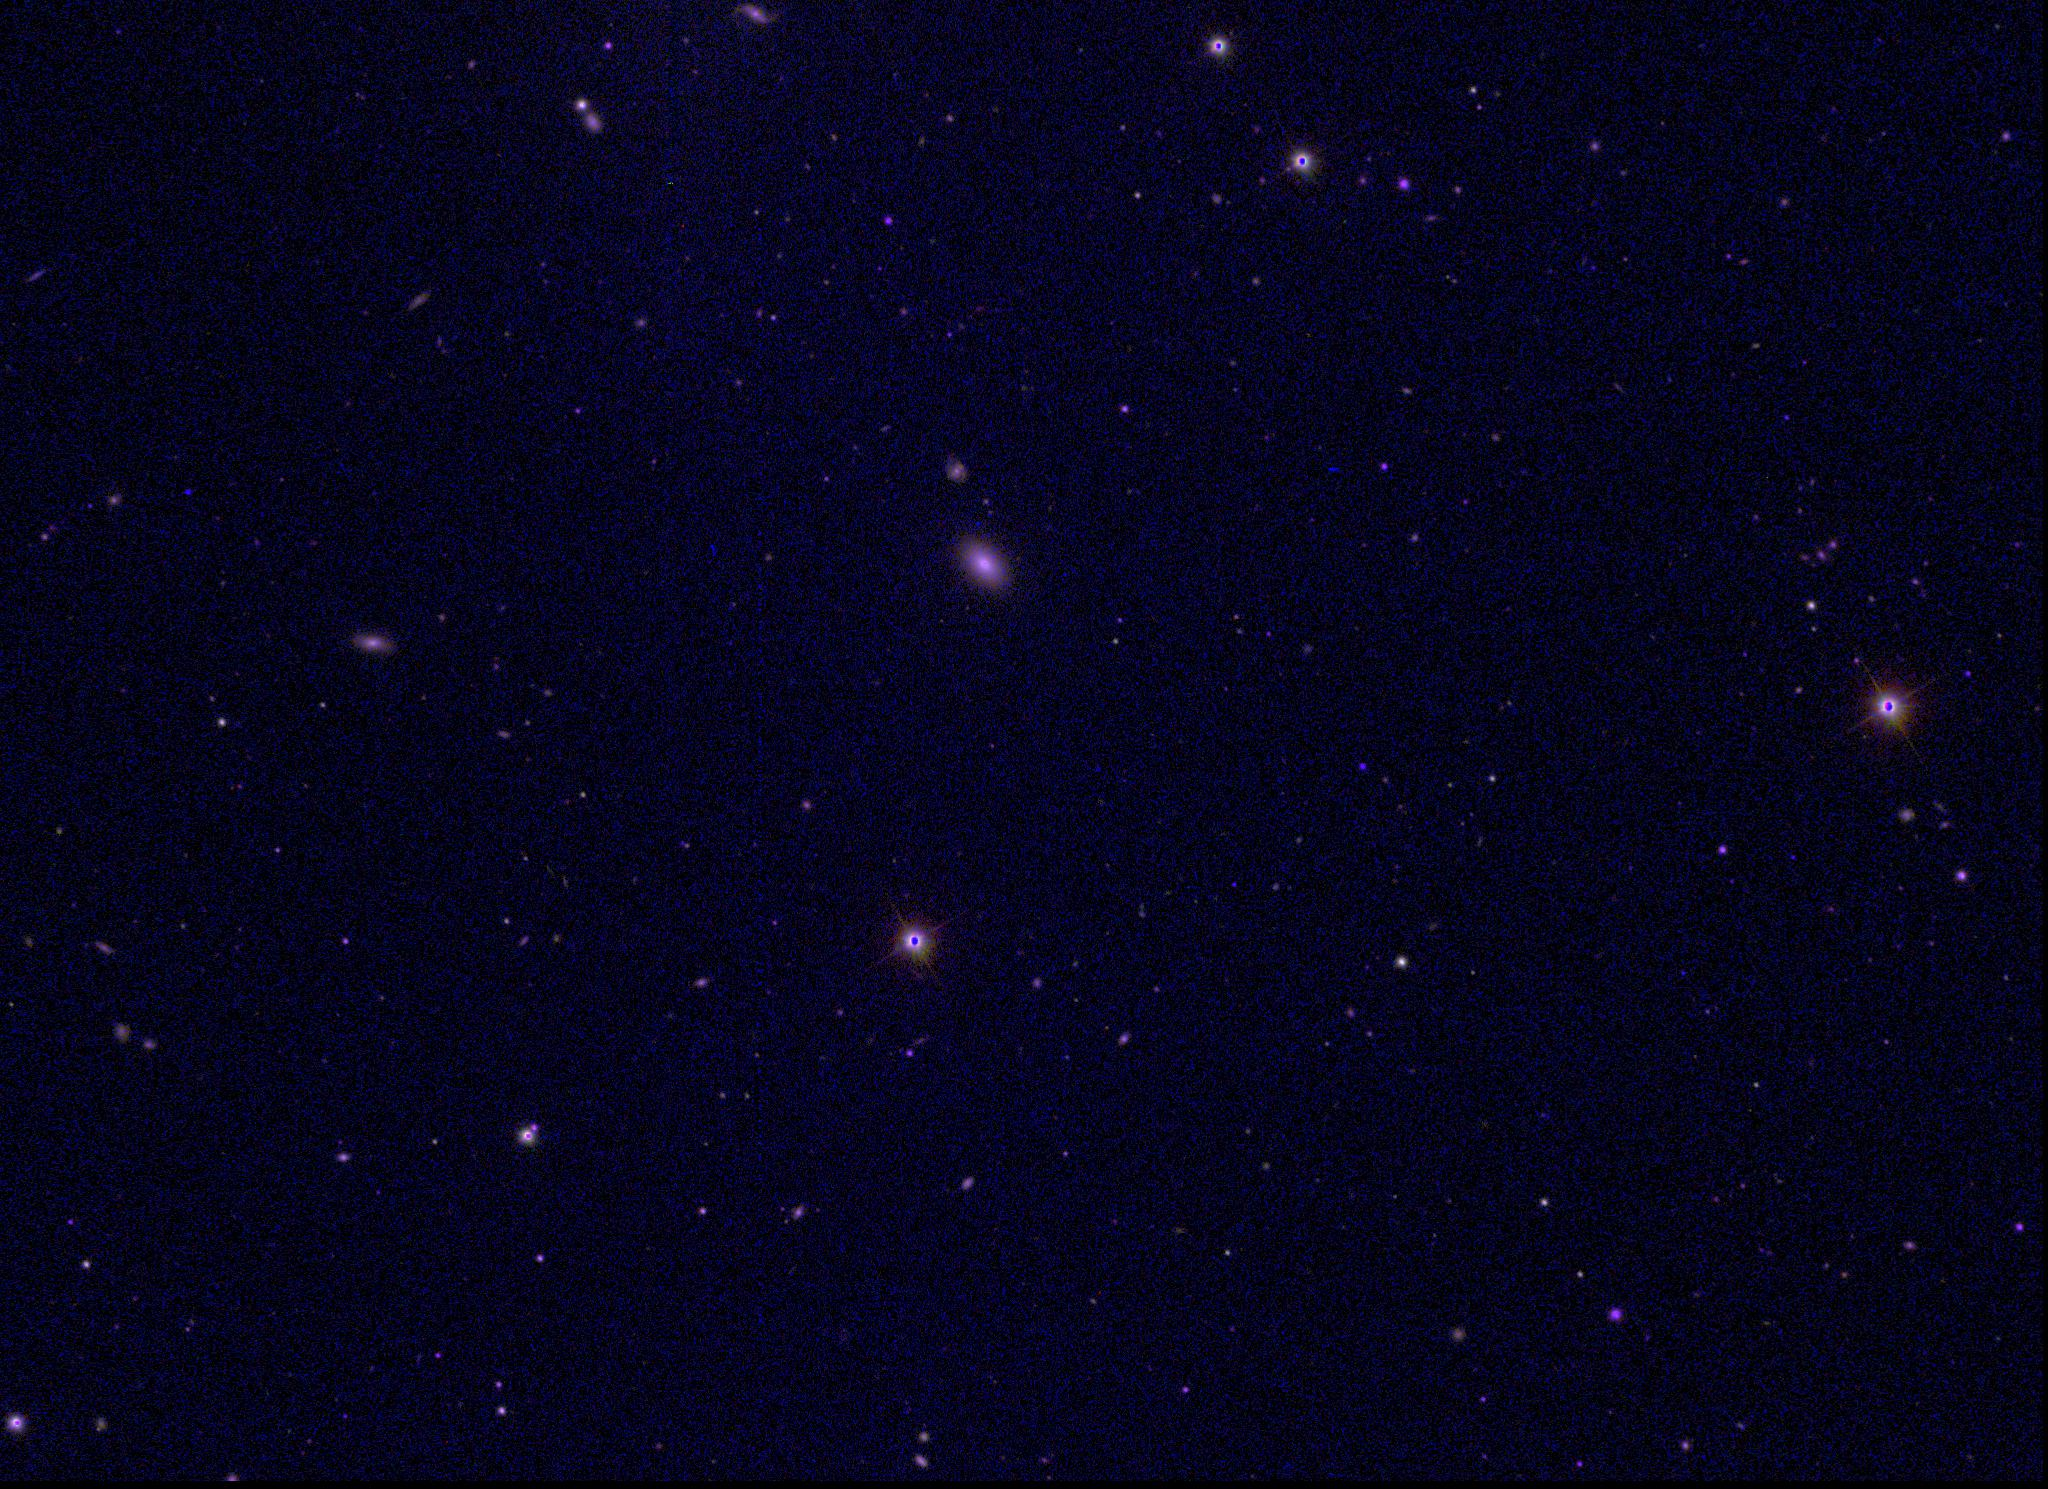L: (181, 485, 196, 500)
